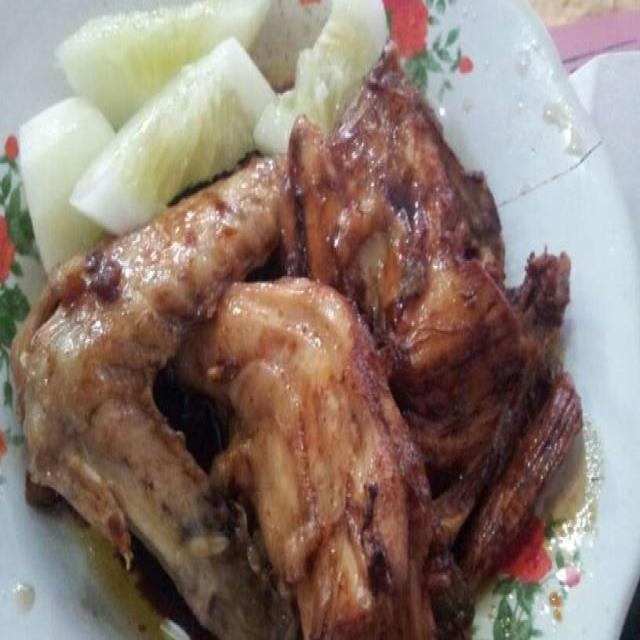鸡肉料理 含炸鸡: (22, 36, 620, 628)
